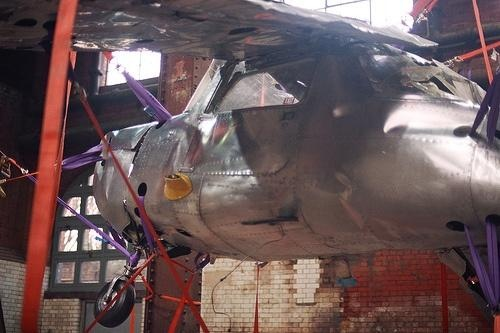aeroplane: (3, 1, 500, 330)
